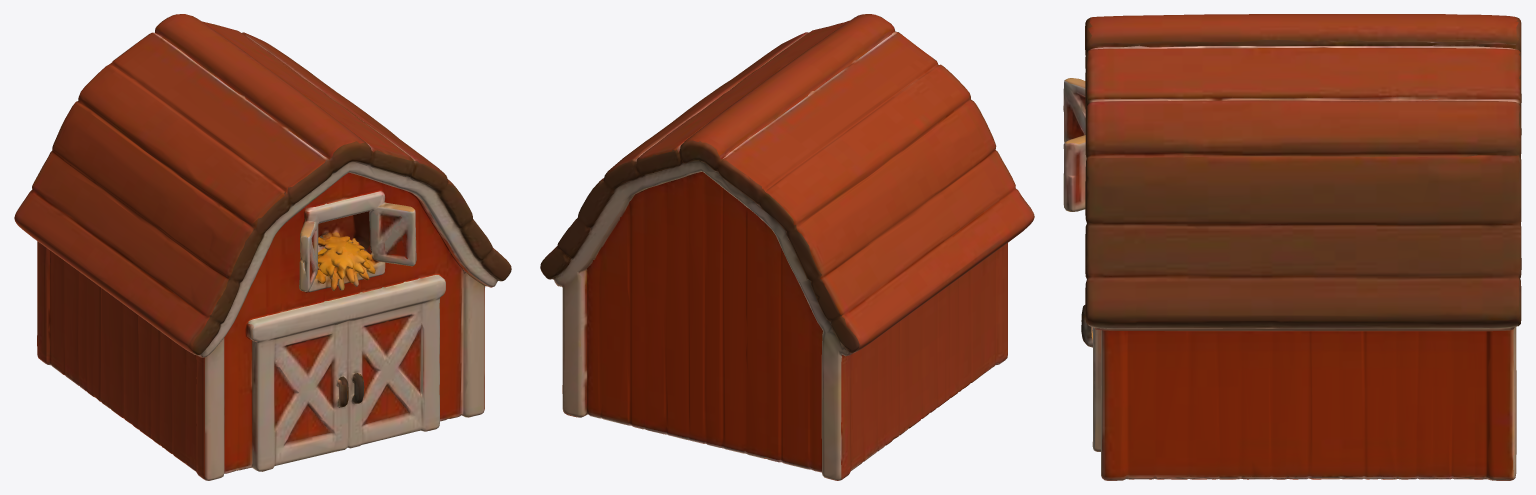
Rendered from barn.glb.
The picture shows the model from 3 angles, left to right: view 1: azimuth 30°, elevation 25°; view 2: azimuth 150°, elevation 25°; view 3: azimuth 270°, elevation 25°; orthographic projection. The views are drawn at different scales.
Visible parts, largest first — view 1: textured_mesh.obj; view 2: textured_mesh.obj; view 3: textured_mesh.obj.
Boxes of the visible parts, x1,y1,x2,y2 form: textured_mesh.obj: (14,14,511,480); textured_mesh.obj: (540,14,1034,480); textured_mesh.obj: (1063,14,1521,480).
Size of what is drawn, in the model's own units: 3.71 by 3.4 by 3.7.
Materials: 1 (1 with a texture image).
